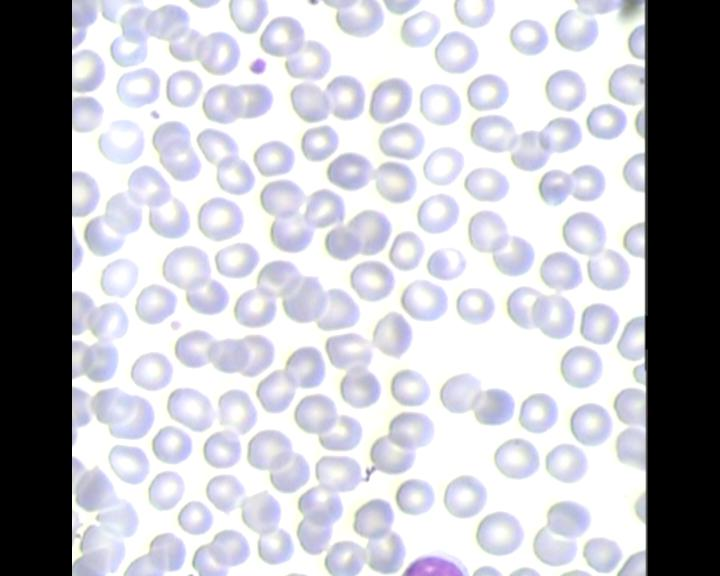lymp: (397, 547, 476, 576)
